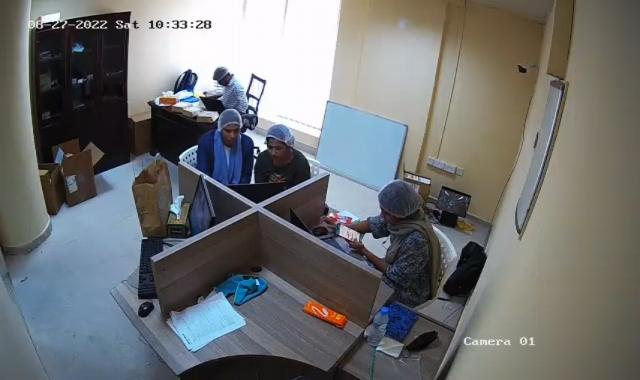hairnet: (375, 182, 422, 223), (264, 122, 296, 155), (216, 110, 251, 140), (210, 63, 235, 82)
